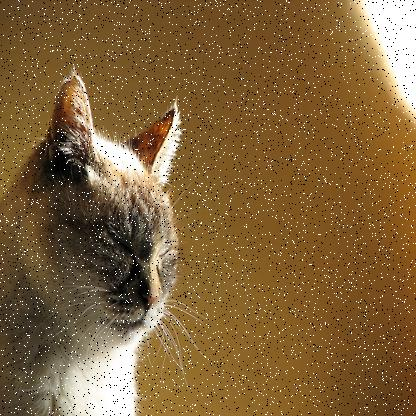cat: (12, 62, 203, 406)
